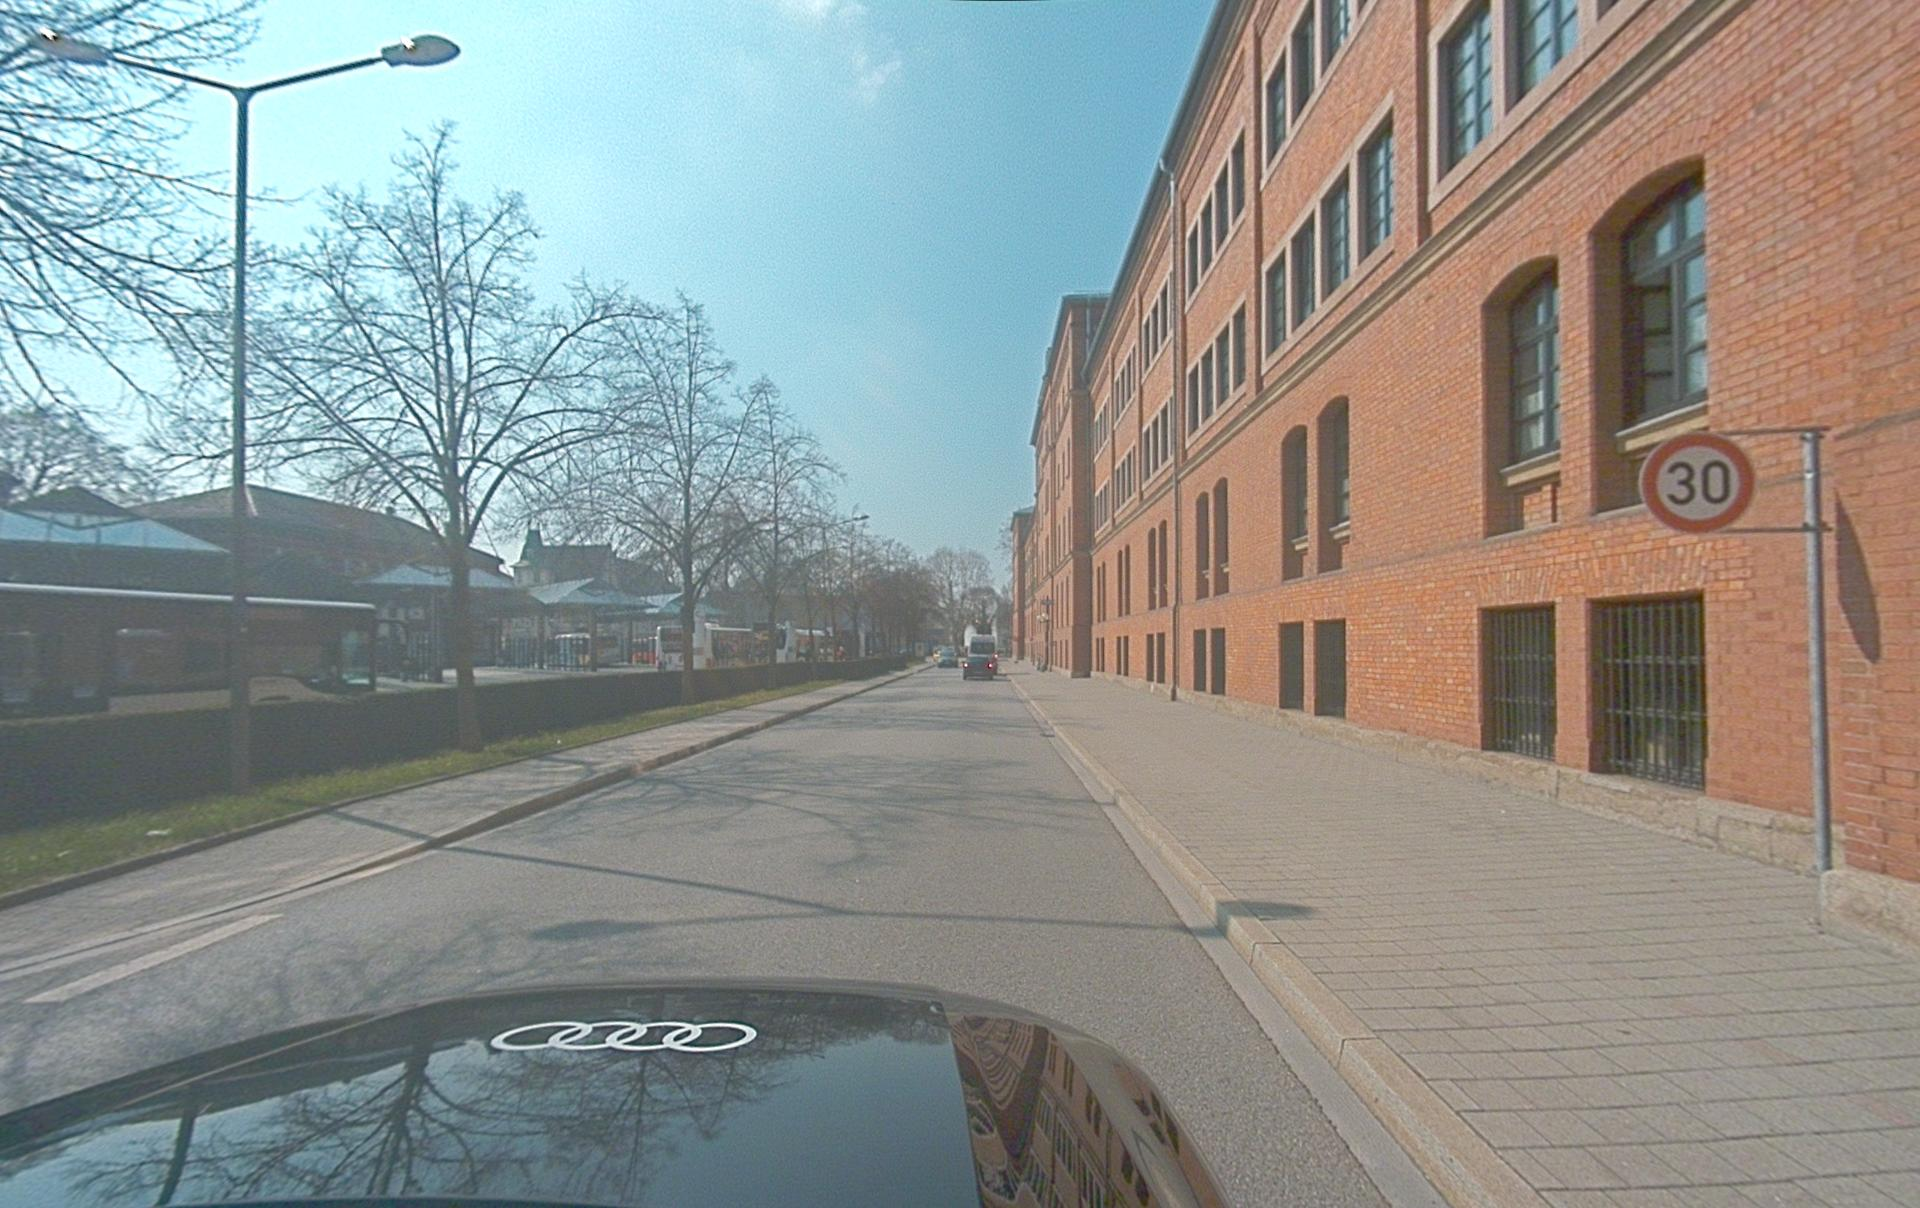car: (0, 976, 1233, 1208), (963, 635, 998, 681), (935, 646, 960, 668)
traffic sign: (1639, 431, 1754, 532)
